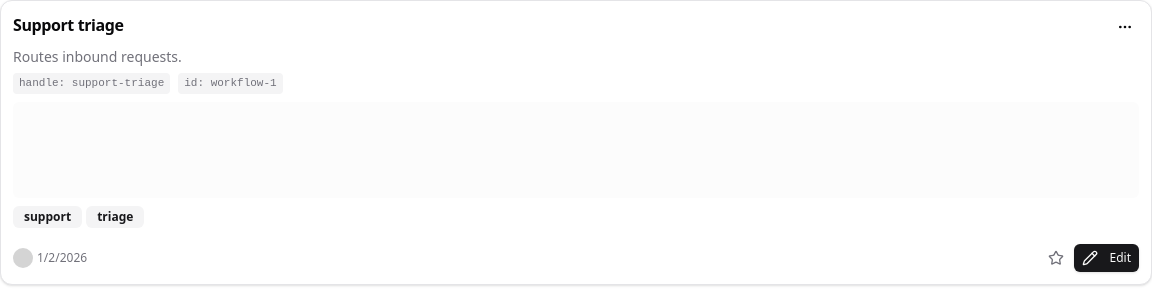
Test: WorkflowCard › shows Export action label without JSON for workflows
What coordinates should you click on to do the following:
click the button named "workflow actions"
I would click on:
 (1125, 27)
Its box is [1111,13,1139,41].
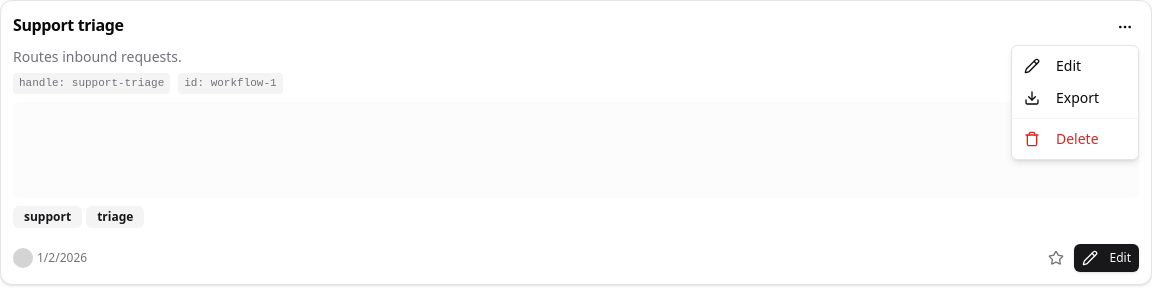
Result: the menu item "Export" is shown at [1024,88,1099,107]
